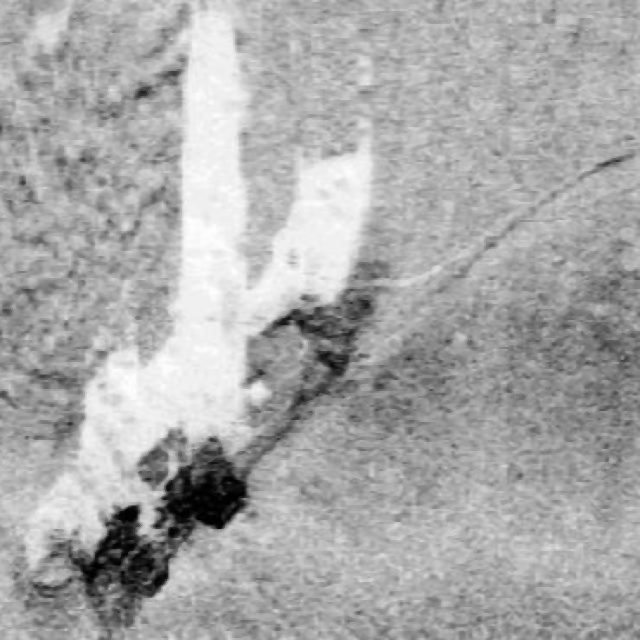Ship: (15, 6, 377, 613)
